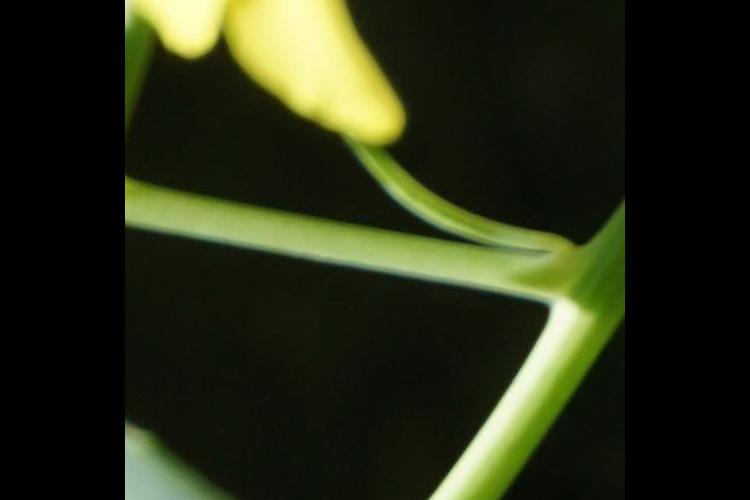yellow: (143, 1, 417, 113)
